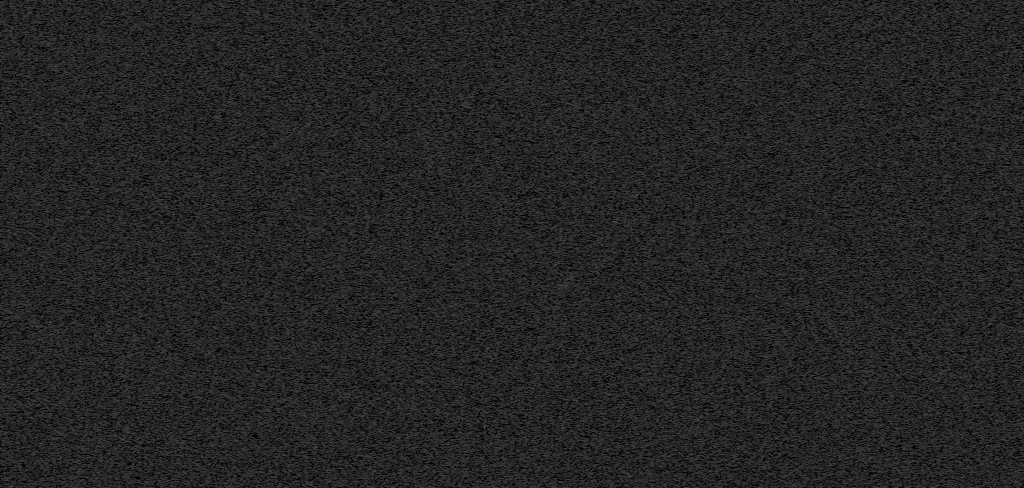wv_cw: (471, 0, 484, 488)
wv_lsb: (181, 56, 186, 255), (180, 348, 187, 488), (69, 236, 74, 390), (69, 56, 74, 122), (69, 127, 74, 187), (181, 290, 186, 347), (69, 434, 74, 488), (181, 4, 186, 55), (69, 391, 74, 433), (181, 256, 186, 289), (69, 26, 74, 55), (860, 457, 864, 488), (860, 76, 864, 106), (14, 210, 18, 231), (69, 220, 74, 235), (69, 205, 74, 219), (860, 374, 864, 391), (860, 163, 864, 180), (860, 45, 864, 62), (860, 312, 864, 325), (860, 270, 864, 283), (69, 5, 73, 18), (860, 143, 864, 155), (14, 195, 18, 206), (860, 108, 864, 118), (69, 194, 73, 204), (860, 432, 864, 441), (860, 418, 863, 430), (860, 399, 863, 410), (14, 337, 18, 345), (860, 290, 864, 298), (860, 122, 864, 130), (69, 19, 74, 25), (860, 336, 864, 343), (860, 252, 864, 259), (860, 449, 864, 455), (860, 411, 864, 417), (860, 348, 863, 355), (860, 357, 864, 362), (860, 187, 864, 192), (860, 181, 864, 186), (860, 39, 864, 44), (69, 188, 73, 193), (860, 442, 863, 448), (860, 156, 863, 162), (860, 299, 864, 303), (860, 306, 863, 311), (860, 193, 863, 198), (860, 131, 863, 136), (860, 33, 863, 38), (860, 27, 863, 32), (860, 21, 863, 26), (860, 332, 864, 335), (860, 260, 863, 264), (860, 231, 863, 235), (860, 226, 863, 230), (69, 123, 73, 126), (860, 393, 863, 396), (860, 367, 863, 370), (860, 344, 863, 347), (860, 244, 863, 247), (860, 220, 863, 223), (860, 11, 863, 14)
wv_wbfm: (81, 0, 117, 488)
